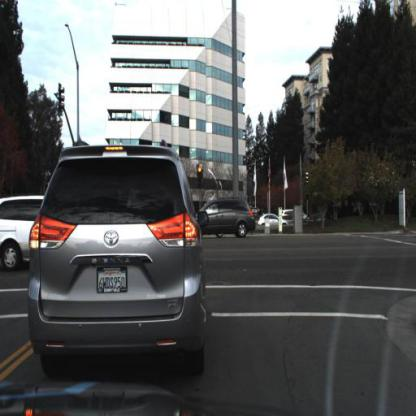car: (26, 135, 211, 376), (1, 198, 46, 266), (193, 200, 256, 243), (259, 213, 288, 229)
trafficLight-Red: (196, 161, 205, 190)
